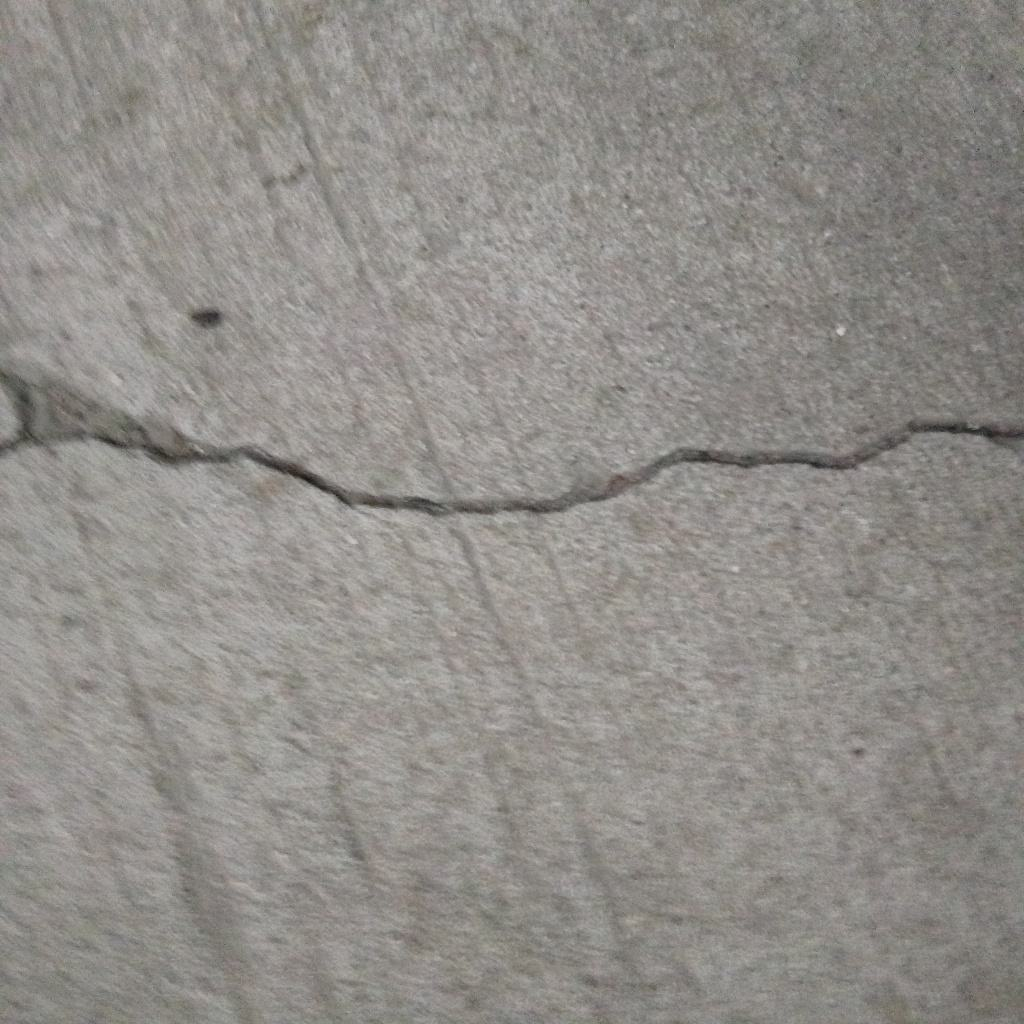Crack: (1, 370, 1024, 515)
